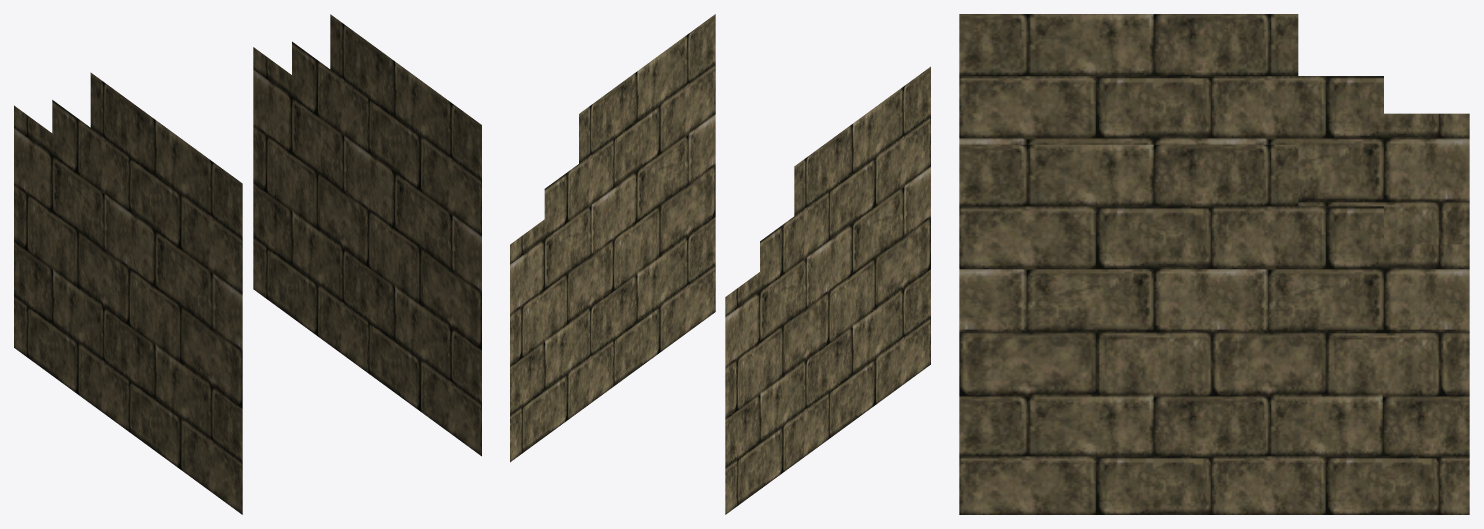
File: OVERHILL_A_01_OBJECT200.fbx
3 views of the same model, side by side, from view 1: azimuth 30°, elevation 25°; view 2: azimuth 150°, elevation 25°; view 3: azimuth 270°, elevation 25° (orthographic). The views are drawn at different scales.
Parts seen in each view (by area): view 1: OVERHILL_A_01_OBJECT200; view 2: OVERHILL_A_01_OBJECT200; view 3: OVERHILL_A_01_OBJECT200.
Part boxes in pixels (x1,y1,x2,y2): OVERHILL_A_01_OBJECT200: [14, 14, 481, 514]; OVERHILL_A_01_OBJECT200: [510, 14, 930, 514]; OVERHILL_A_01_OBJECT200: [959, 14, 1469, 514].
Bounding box in the file's own units: 36360 × 48105 × 60091.
1 material, 1 textured.
